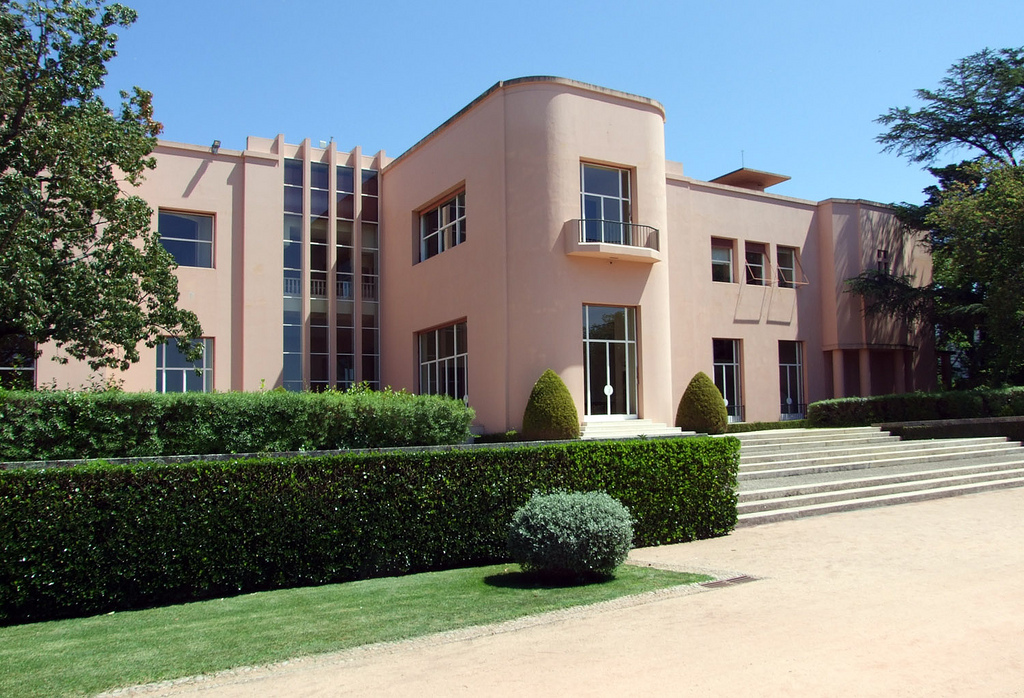serralves: (0, 71, 1023, 437)
